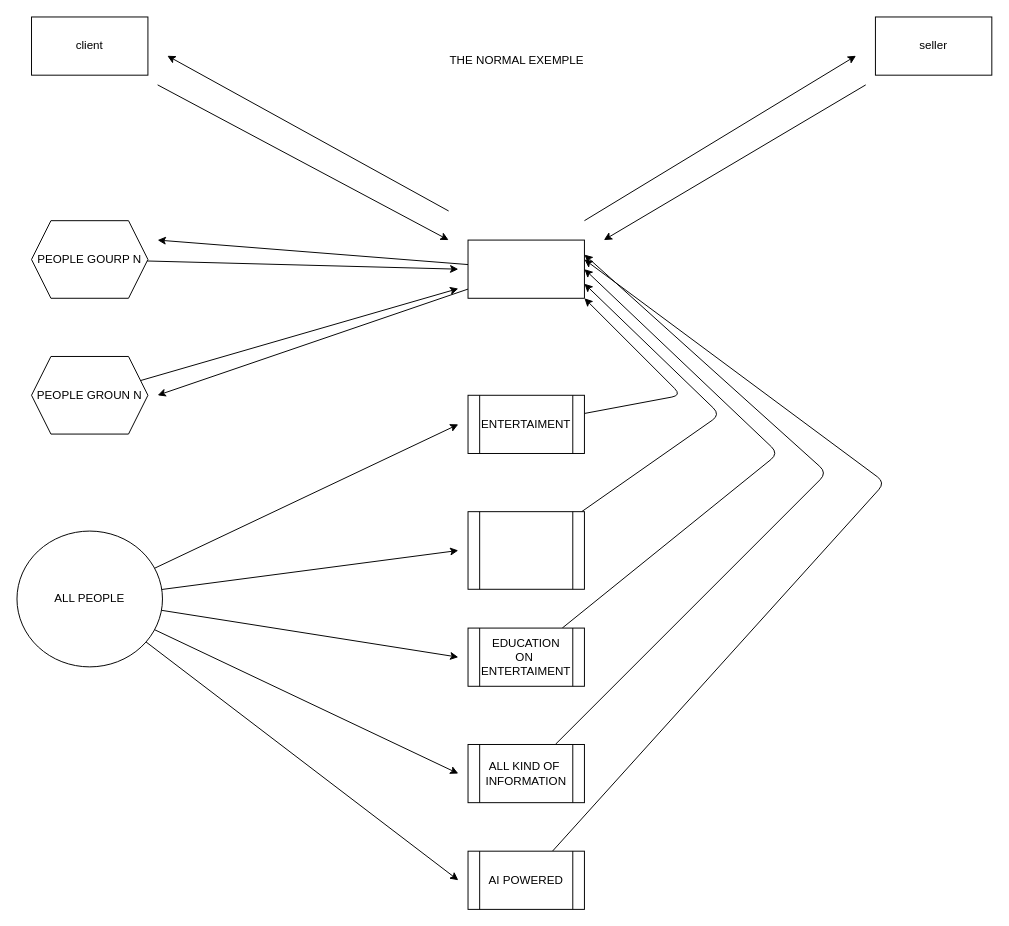
Image size: 1009x926. Some labels were removed from this diagram. The box of each missing label's shape, as (x1, y1, x2, y2) in pixels:
EDUCATION: (467, 511, 584, 589)
ISC: (467, 239, 584, 298)
